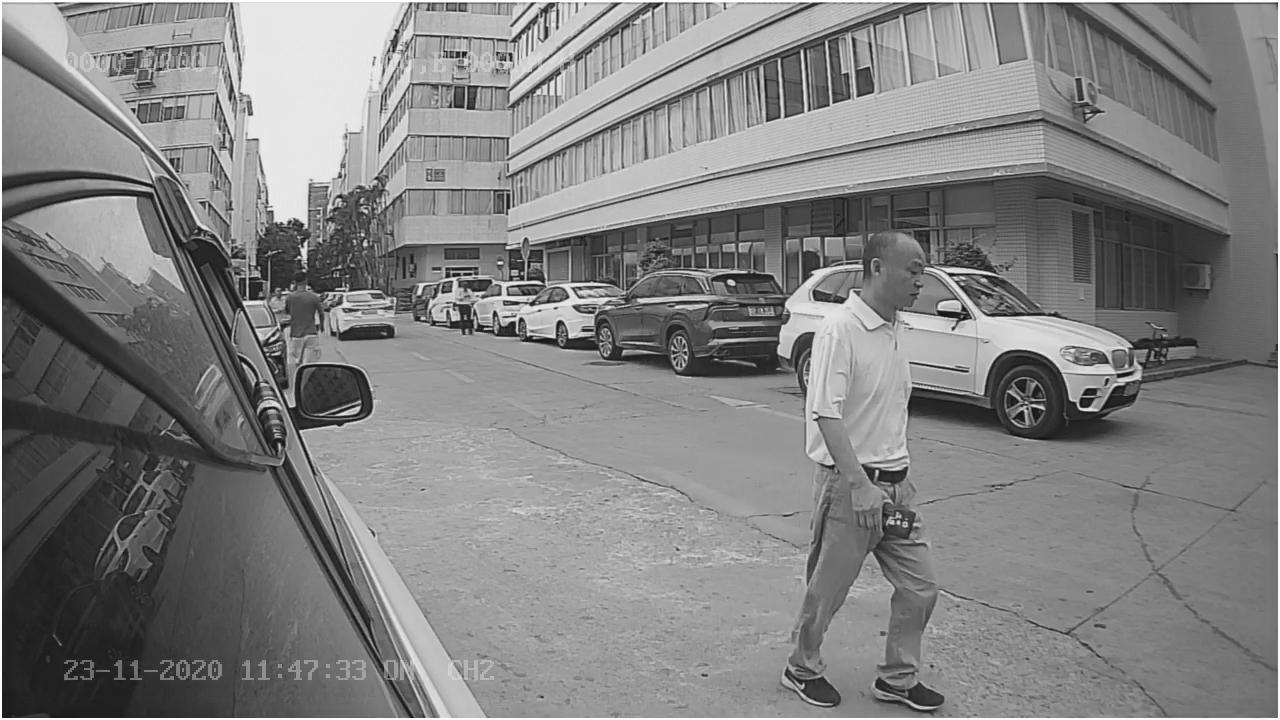person: (779, 221, 947, 708)
